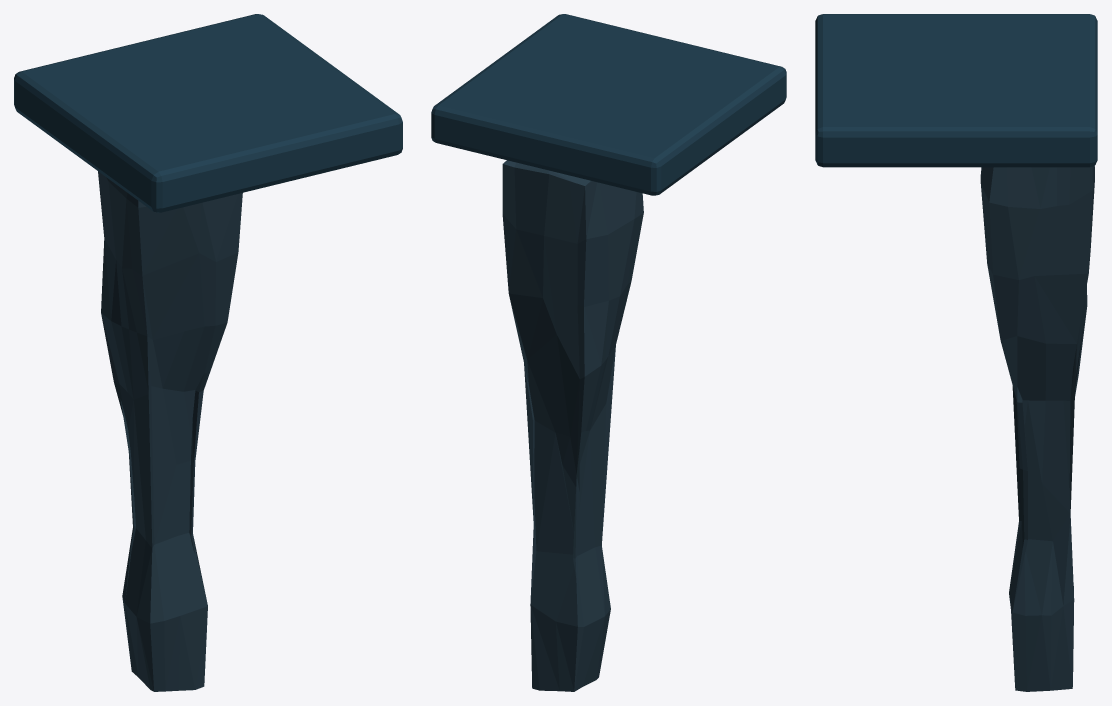
The model's file is spawn_refined.glb.
The picture shows the model from 3 angles, left to right: view 1: azimuth 30°, elevation 25°; view 2: azimuth 150°, elevation 25°; view 3: azimuth 270°, elevation 25°; orthographic projection. The views are drawn at different scales.
Parts seen in each view (by area): view 1: spawn_refined; view 2: spawn_refined; view 3: spawn_refined.
Boxes of the visible parts, x1=… form: spawn_refined: x1=14, y1=14, x2=402, y2=691; spawn_refined: x1=431, y1=14, x2=786, y2=691; spawn_refined: x1=815, y1=14, x2=1097, y2=691.
Size of the model in its own units: 3.2 by 7.63 by 3.2.
